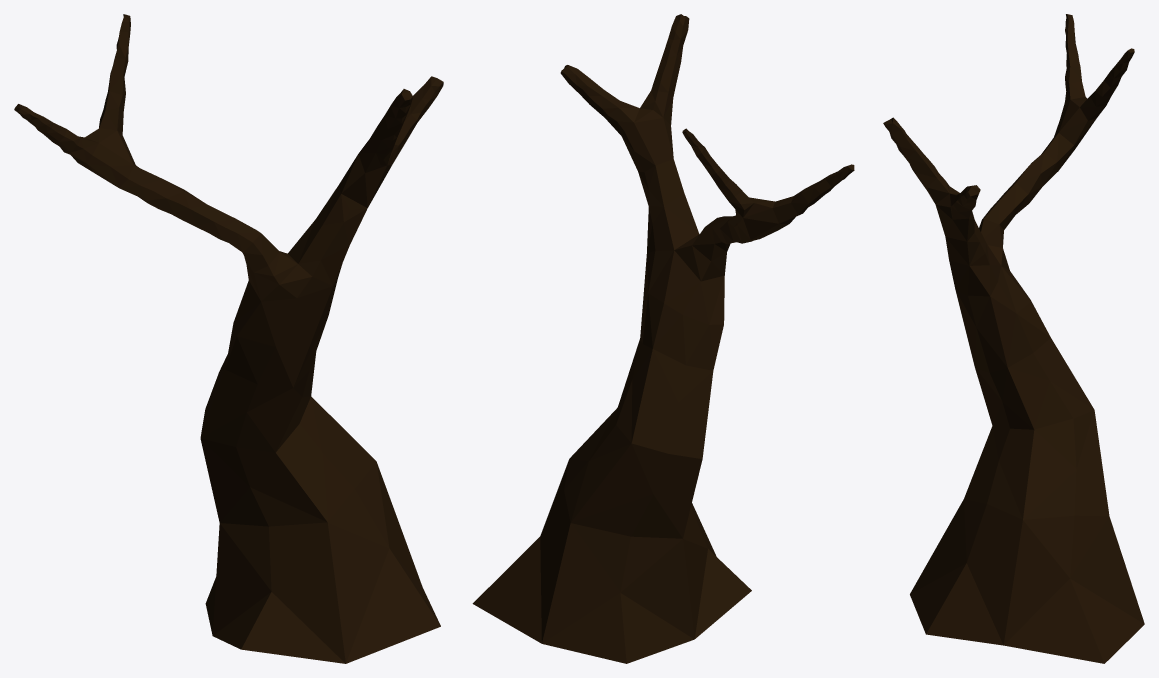
File: common_tree_dead_1.glb
3 views of the same model, side by side, from view 1: azimuth 30°, elevation 25°; view 2: azimuth 150°, elevation 25°; view 3: azimuth 270°, elevation 25° (orthographic). The views are drawn at different scales.
Visible parts, largest first — view 1: common_tree_1_trunk; view 2: common_tree_1_trunk; view 3: common_tree_1_trunk.
Boxes of the visible parts, left/top/right/bottom form: common_tree_1_trunk: left=14, top=14, right=443, bottom=663; common_tree_1_trunk: left=472, top=14, right=854, bottom=663; common_tree_1_trunk: left=883, top=14, right=1144, bottom=663.
Bounding box in the file's own units: 2.96 × 4.32 × 1.95.
